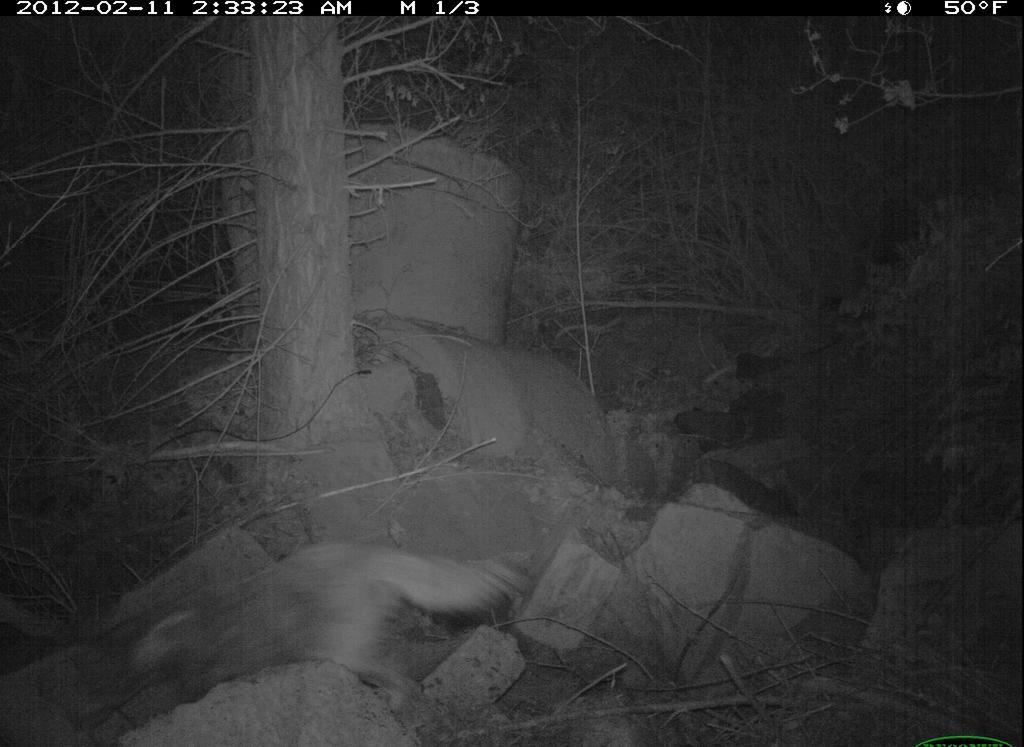coyote: (63, 532, 545, 731)
